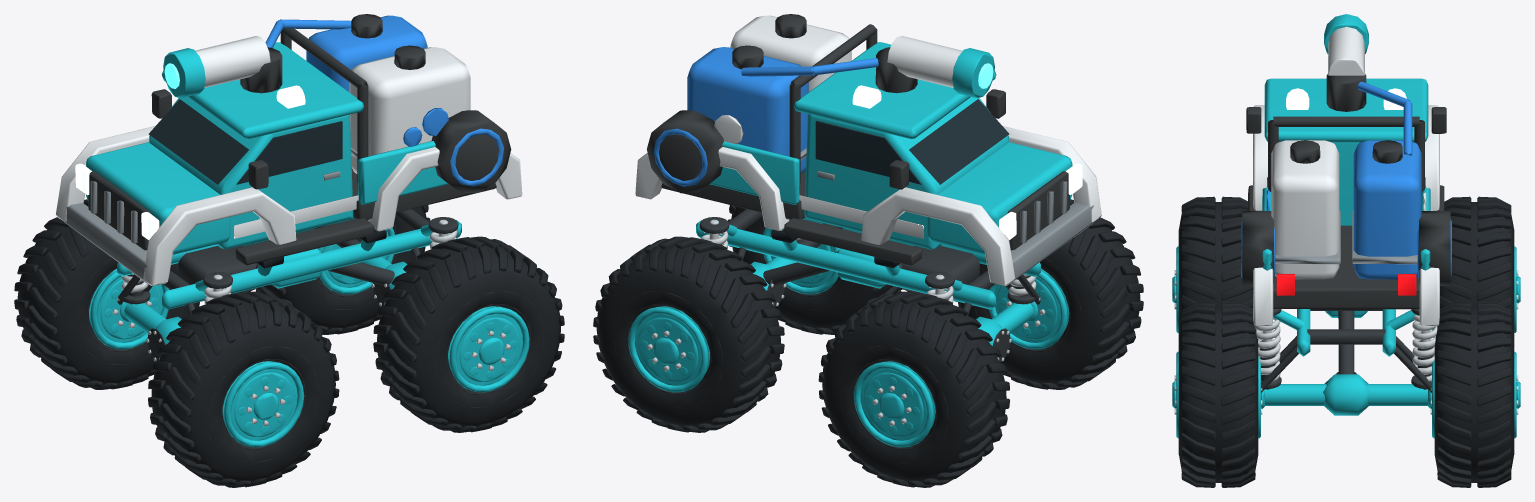
Rendered from SplashTruck.fbx.
The picture shows the model from 3 angles, left to right: view 1: azimuth 30°, elevation 25°; view 2: azimuth 150°, elevation 25°; view 3: azimuth 270°, elevation 25°; orthographic projection. The views are drawn at different scales.
Visible parts, largest first — view 1: SplashTruck_LOD0_sprung_body_Geometry, SplashTruck_LOD0_FL_Spin_Geometry, SplashTruck_LOD0_RL_Spin_Geometry, SplashTruck_LOD0_FR_Spin_Geometry, SplashTruck_LOD0_RR_Spin_Geometry, SplashTruck_LOD0_ToolPivot_Geometry, SplashTruck_LOD0_FRONT_axle_Geometry, SplashTruck_LOD0_Root_Geometry, SplashTruck_LOD0_REAR_axle_Geometry, SplashTruck_LOD0_FRONT_shock_-1_Geometry, SplashTruck_LOD0_REAR_shock_-1_Geometry; view 2: SplashTruck_LOD0_sprung_body_Geometry, SplashTruck_LOD0_RR_Spin_Geometry, SplashTruck_LOD0_FR_Spin_Geometry, SplashTruck_LOD0_FL_Spin_Geometry, SplashTruck_LOD0_RL_Spin_Geometry, SplashTruck_LOD0_ToolPivot_Geometry, SplashTruck_LOD0_FRONT_axle_Geometry, SplashTruck_LOD0_Root_Geometry, SplashTruck_LOD0_REAR_axle_Geometry, SplashTruck_LOD0_FRONT_shock_1_Geometry, SplashTruck_LOD0_REAR_shock_1_Geometry; view 3: SplashTruck_LOD0_sprung_body_Geometry, SplashTruck_LOD0_RL_Spin_Geometry, SplashTruck_LOD0_RR_Spin_Geometry, SplashTruck_LOD0_FR_Spin_Geometry, SplashTruck_LOD0_FL_Spin_Geometry, SplashTruck_LOD0_REAR_axle_Geometry, SplashTruck_LOD0_ToolPivot_Geometry, SplashTruck_LOD0_Root_Geometry, SplashTruck_LOD0_REAR_shock_1_Geometry, SplashTruck_LOD0_REAR_shock_-1_Geometry.
Boxes of the visible parts, x1,y1,x2,y2 form: SplashTruck_LOD0_sprung_body_Geometry: [56, 14, 522, 309]; SplashTruck_LOD0_FL_Spin_Geometry: [148, 291, 339, 487]; SplashTruck_LOD0_RL_Spin_Geometry: [373, 236, 564, 432]; SplashTruck_LOD0_FR_Spin_Geometry: [14, 199, 199, 389]; SplashTruck_LOD0_RR_Spin_Geometry: [256, 205, 430, 334]; SplashTruck_LOD0_ToolPivot_Geometry: [163, 36, 270, 98]; SplashTruck_LOD0_FRONT_axle_Geometry: [124, 303, 181, 361]; SplashTruck_LOD0_Root_Geometry: [117, 219, 420, 314]; SplashTruck_LOD0_REAR_axle_Geometry: [361, 257, 407, 306]; SplashTruck_LOD0_FRONT_shock_-1_Geometry: [203, 272, 232, 304]; SplashTruck_LOD0_REAR_shock_-1_Geometry: [428, 217, 458, 249]; SplashTruck_LOD0_sprung_body_Geometry: [635, 14, 1101, 309]; SplashTruck_LOD0_RR_Spin_Geometry: [593, 236, 784, 432]; SplashTruck_LOD0_FR_Spin_Geometry: [818, 291, 1009, 487]; SplashTruck_LOD0_FL_Spin_Geometry: [954, 199, 1143, 389]; SplashTruck_LOD0_RL_Spin_Geometry: [727, 205, 902, 334]; SplashTruck_LOD0_ToolPivot_Geometry: [887, 36, 994, 98]; SplashTruck_LOD0_FRONT_axle_Geometry: [976, 303, 1033, 362]; SplashTruck_LOD0_Root_Geometry: [721, 219, 1040, 315]; SplashTruck_LOD0_REAR_axle_Geometry: [750, 257, 796, 307]; SplashTruck_LOD0_FRONT_shock_1_Geometry: [925, 272, 954, 302]; SplashTruck_LOD0_REAR_shock_1_Geometry: [699, 217, 729, 247]; SplashTruck_LOD0_sprung_body_Geometry: [1241, 74, 1451, 356]; SplashTruck_LOD0_RL_Spin_Geometry: [1172, 302, 1264, 487]; SplashTruck_LOD0_RR_Spin_Geometry: [1428, 302, 1520, 487]; SplashTruck_LOD0_FR_Spin_Geometry: [1432, 196, 1520, 334]; SplashTruck_LOD0_FL_Spin_Geometry: [1172, 196, 1252, 334]; SplashTruck_LOD0_REAR_axle_Geometry: [1265, 372, 1427, 415]; SplashTruck_LOD0_ToolPivot_Geometry: [1324, 14, 1368, 75]; SplashTruck_LOD0_Root_Geometry: [1261, 311, 1431, 392]; SplashTruck_LOD0_REAR_shock_1_Geometry: [1411, 309, 1437, 388]; SplashTruck_LOD0_REAR_shock_-1_Geometry: [1254, 309, 1281, 388].
Size of the model in its own units: 517 by 471 by 414.
